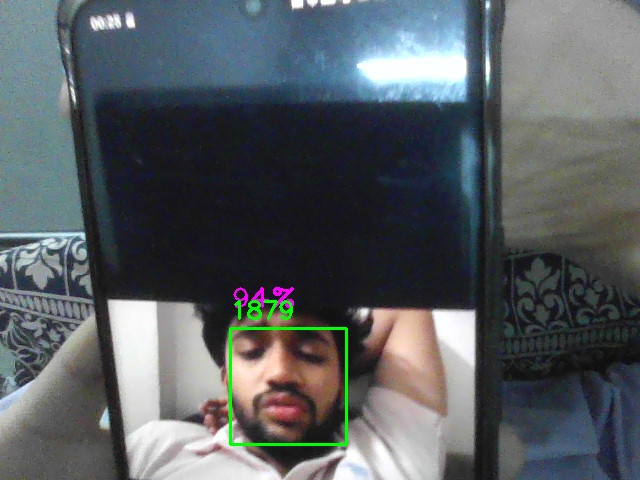fake: (230, 328, 347, 445)
